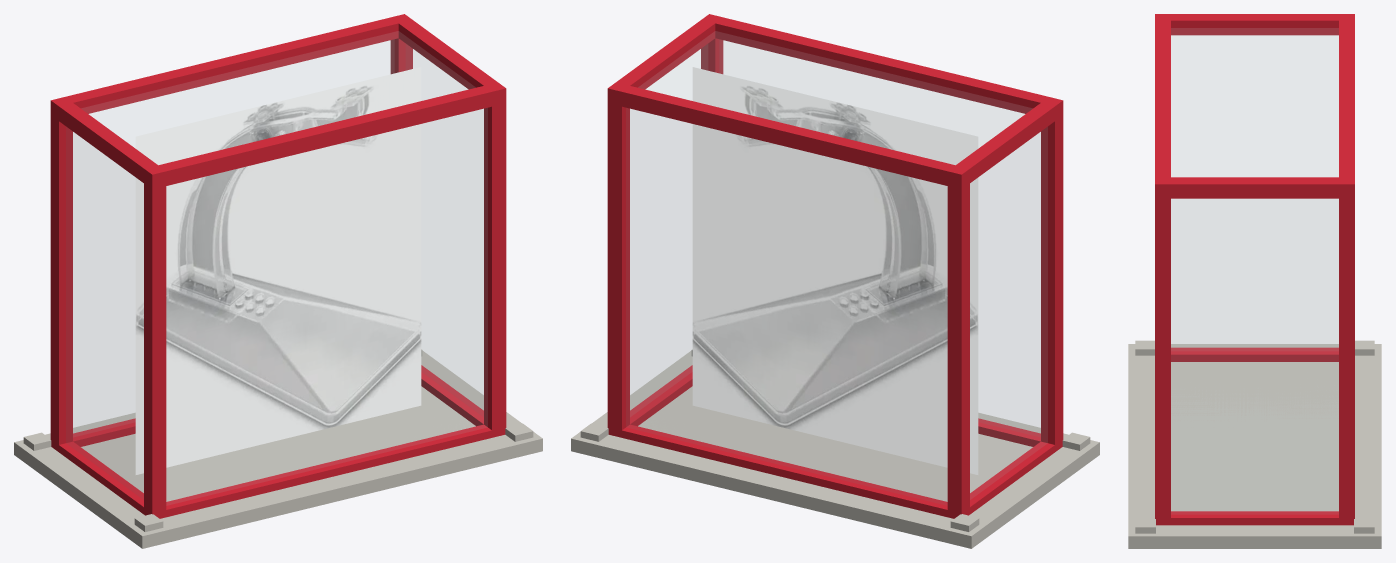
Rendered from lego-ongotsny-suur.glb.
The picture shows the model from 3 angles, left to right: view 1: azimuth 30°, elevation 25°; view 2: azimuth 150°, elevation 25°; view 3: azimuth 270°, elevation 25°; orthographic projection.
Bounding box in the file's own units: 0.198 × 0.1695 × 0.11.
4 materials, 1 textured.
